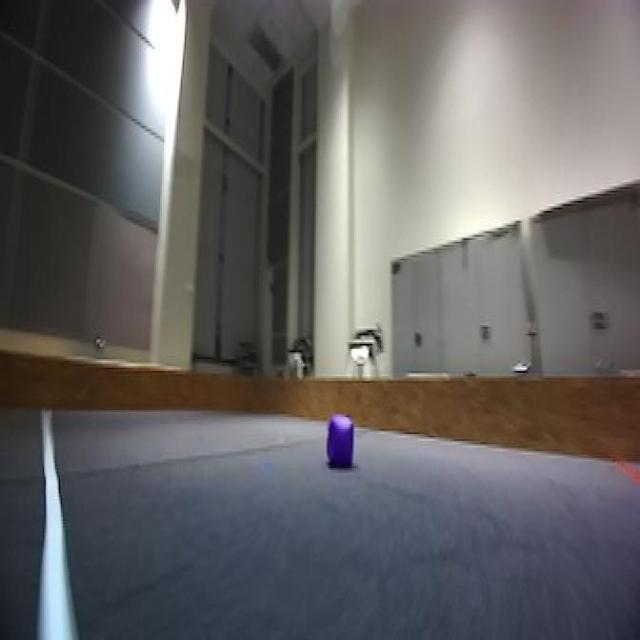frc_cube: (324, 416, 357, 472)
